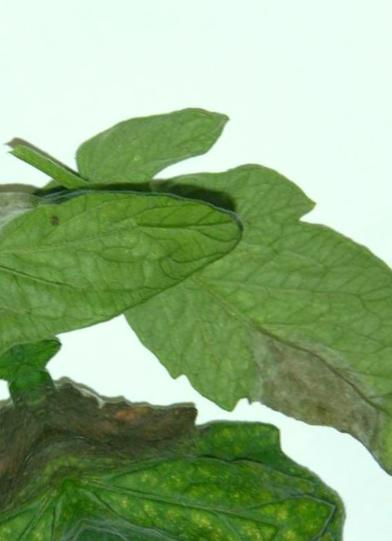Tomato leaf late blight: (26, 54, 392, 541), (11, 239, 360, 541), (0, 0, 256, 364)
